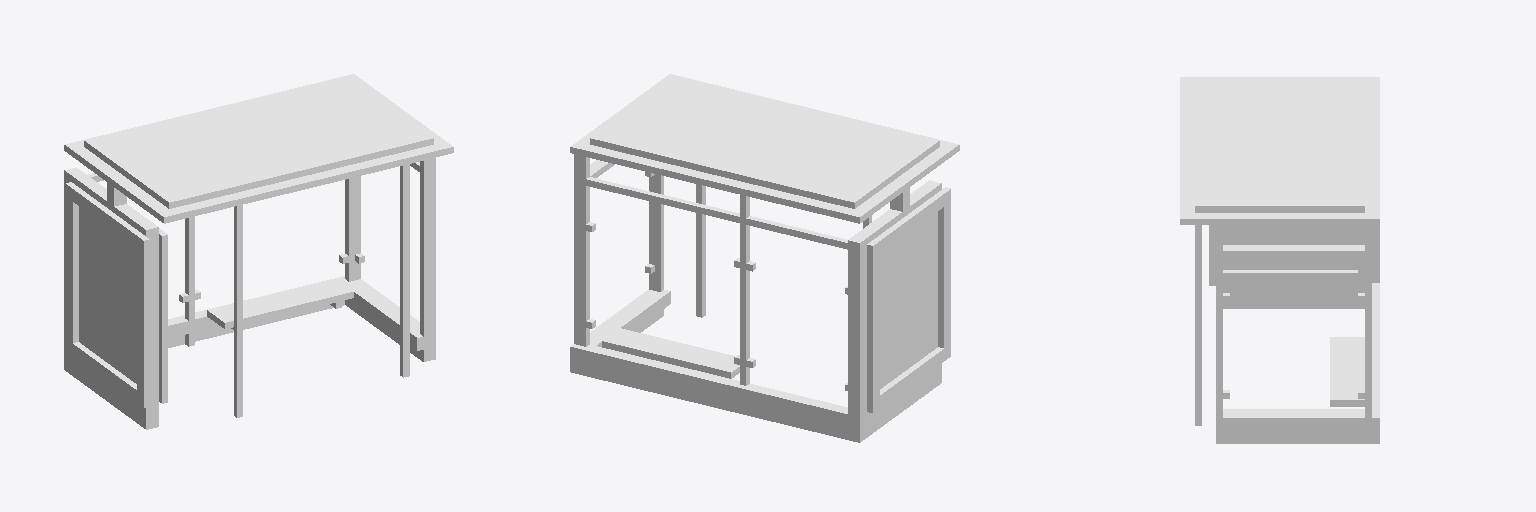
File: Station-0-Station.obj
3 views of the same model, side by side, from view 1: azimuth 30°, elevation 25°; view 2: azimuth 150°, elevation 25°; view 3: azimuth 270°, elevation 25° (orthographic).
Visible parts, largest first — view 1: Station; view 2: Station; view 3: Station.
Part boxes in pixels (x1,y1,x2,y2): Station: (64, 74, 453, 429); Station: (570, 74, 959, 442); Station: (1180, 77, 1379, 443).
Size of the model in its own units: 4.8 by 3.6 by 2.8.